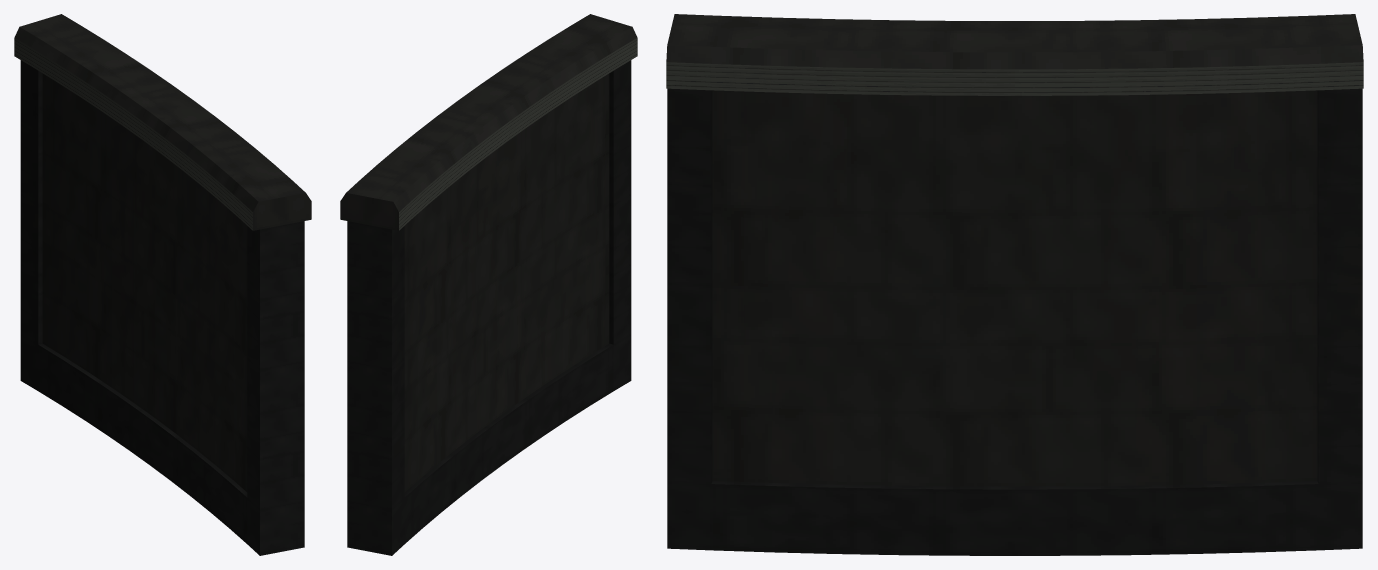
Rendered from marble_wall_arc.glb.
3 views of the same model, side by side, from view 1: azimuth 30°, elevation 25°; view 2: azimuth 150°, elevation 25°; view 3: azimuth 270°, elevation 25° (orthographic). The views are drawn at different scales.
Visible parts, largest first — view 1: MarbleWallArc; view 2: MarbleWallArc; view 3: MarbleWallArc.
Boxes of the visible parts, x1,y1,x2,y2 form: MarbleWallArc: (14, 14, 311, 555); MarbleWallArc: (340, 14, 637, 555); MarbleWallArc: (666, 14, 1363, 555).
Size of what is drawn, in the model's own units: 1.48 by 7.6 by 9.52.
4 materials, 4 textured.
